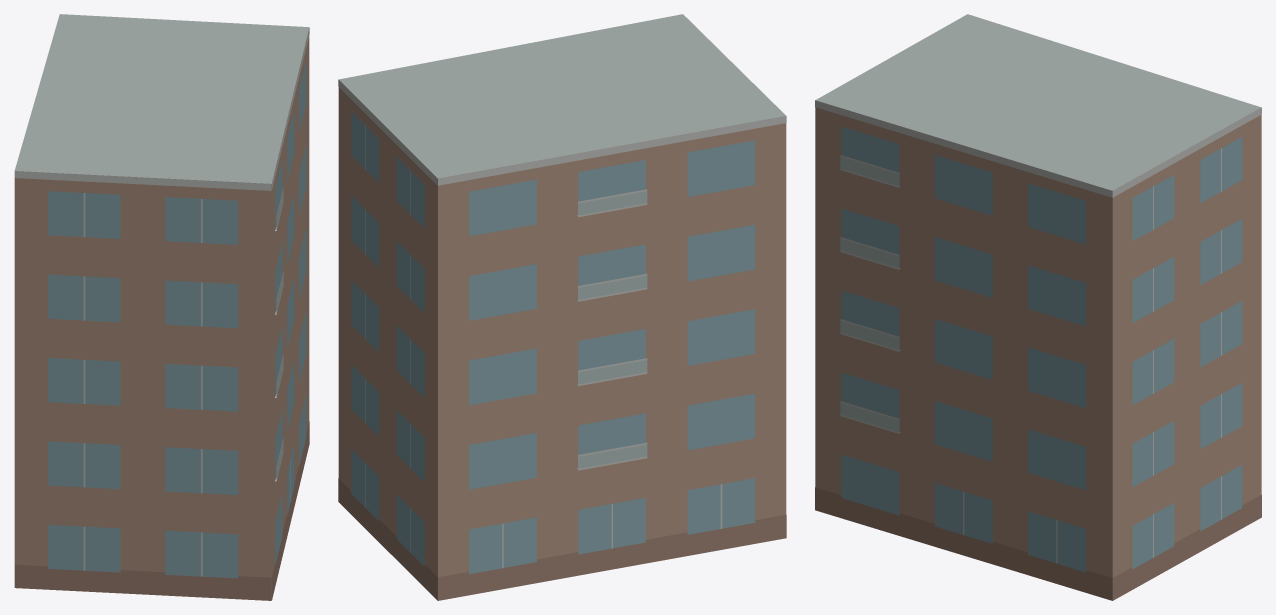
File: survey-upis-32952997.glb
3 renders of one model, left to right at view 1: azimuth 30°, elevation 25°; view 2: azimuth 150°, elevation 25°; view 3: azimuth 270°, elevation 25°, orthographic. The views are drawn at different scales.
Visible parts, largest first — view 1: survey-upis-32952997.tmp; view 2: survey-upis-32952997.tmp; view 3: survey-upis-32952997.tmp.
Part boxes in pixels (<box>): survey-upis-32952997.tmp: <box>14,14,309,600</box>; survey-upis-32952997.tmp: <box>338,14,786,600</box>; survey-upis-32952997.tmp: <box>815,14,1261,600</box>.
Bounding box in the file's own units: 13.33 × 14.4 × 14.22.
